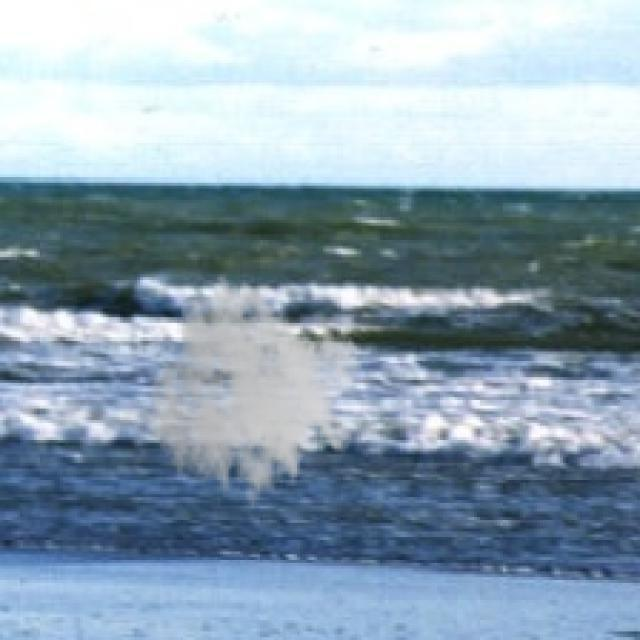Smoke: (148, 272, 363, 522)
